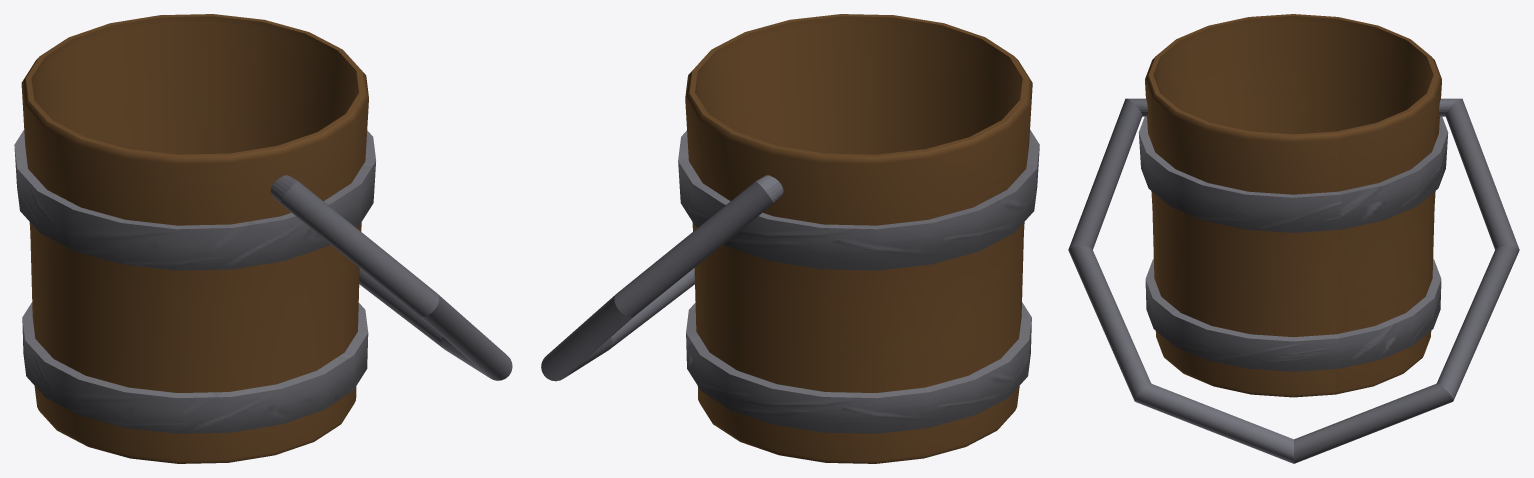
File: Bucket.fbx
3 views of the same model, side by side, from view 1: azimuth 30°, elevation 25°; view 2: azimuth 150°, elevation 25°; view 3: azimuth 270°, elevation 25° (orthographic). The views are drawn at different scales.
Visible parts, largest first — view 1: Bucket, pTorus1; view 2: Bucket, pTorus1; view 3: Bucket, pTorus1.
Part boxes in pixels (x1=…): Bucket: x1=14, y1=14, x2=375, y2=463; pTorus1: x1=270, y1=175, x2=512, y2=380; Bucket: x1=678, y1=14, x2=1039, y2=463; pTorus1: x1=541, y1=175, x2=783, y2=381; Bucket: x1=1138, y1=14, x2=1448, y2=397; pTorus1: x1=1068, y1=98, x2=1519, y2=463.
Size of the model in its own units: 30.38 by 22.3 by 32.57.
1 material, 1 textured.
